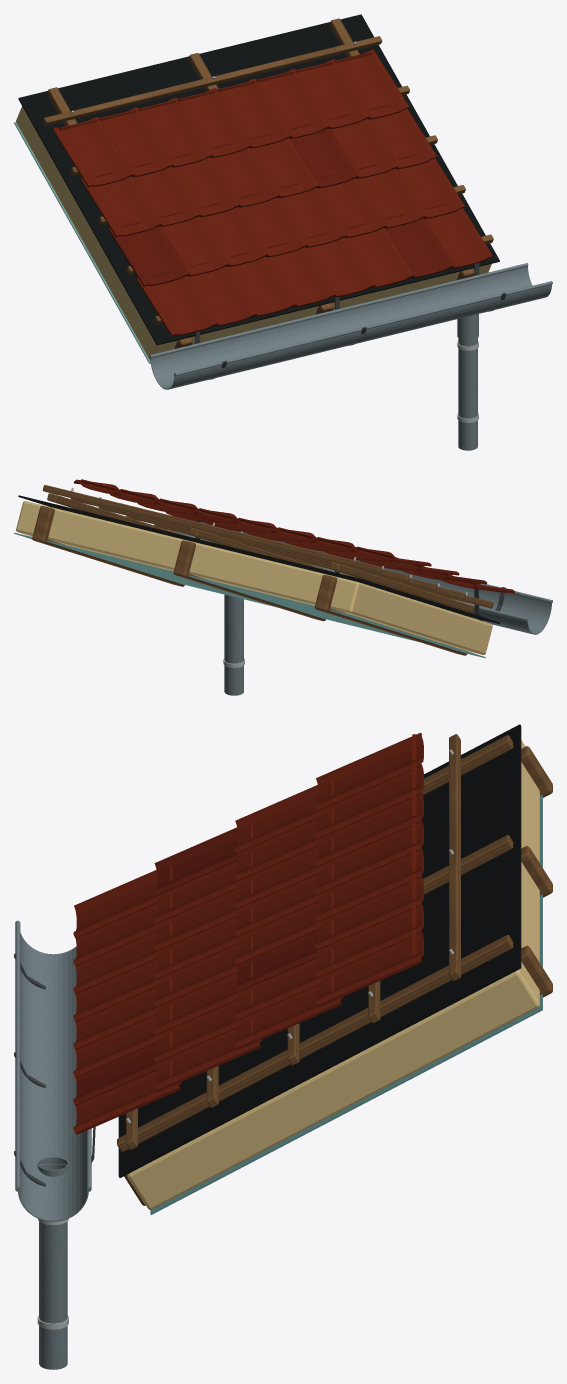
The model's file is modell.glb.
3 renders of one model, top to bottom at view 1: azimuth 30°, elevation 25°; view 2: azimuth 150°, elevation 25°; view 3: azimuth 270°, elevation 25°, orthographic. The views are drawn at different scales.
Parts seen in each view (by area): view 1: g06-deckziegel_deckung, g06-zusatzebene_zusatzebene, g06-rinne_, g06-deckziegel_deckung.001, g06-daemmung_daemmung, g06-lattung_lattung, g06-fallrohr_, g06-luftdichtheit_luftdichtheit; view 2: g06-daemmung_daemmung, g06-lattung_lattung, g06-deckziegel_deckung, g06-sparren_tragwerk, g06-rinne_, g06-luftdichtheit_luftdichtheit, g06-zusatzebene_zusatzebene, g06-fallrohr_, g06-deckziegel_deckung.001; view 3: g06-deckziegel_deckung, g06-zusatzebene_zusatzebene, g06-daemmung_daemmung, g06-rinne_, g06-lattung_lattung, g06-deckziegel_deckung.001, g06-fallrohr_, g06-luftdichtheit_luftdichtheit, g06-sparren_tragwerk.
Boxes of the visible parts, x1,y1,x2,y2 form: g06-deckziegel_deckung: [52, 49, 493, 336]; g06-zusatzebene_zusatzebene: [18, 14, 499, 345]; g06-rinne_: [149, 263, 552, 389]; g06-deckziegel_deckung.001: [108, 128, 454, 286]; g06-daemmung_daemmung: [16, 106, 491, 359]; g06-lattung_lattung: [42, 18, 493, 324]; g06-fallrohr_: [458, 338, 477, 450]; g06-luftdichtheit_luftdichtheit: [14, 122, 150, 363]; g06-daemmung_daemmung: [16, 501, 492, 654]; g06-lattung_lattung: [42, 485, 493, 613]; g06-deckziegel_deckung: [74, 479, 514, 593]; g06-sparren_tragwerk: [32, 506, 466, 655]; g06-rinne_: [170, 521, 552, 634]; g06-luftdichtheit_luftdichtheit: [14, 532, 485, 658]; g06-zusatzebene_zusatzebene: [18, 495, 499, 623]; g06-fallrohr_: [224, 594, 243, 695]; g06-deckziegel_deckung.001: [188, 513, 487, 584]; g06-deckziegel_deckung: [73, 732, 423, 1134]; g06-zusatzebene_zusatzebene: [118, 724, 521, 1177]; g06-daemmung_daemmung: [127, 740, 539, 1209]; g06-rinne_: [15, 920, 91, 1221]; g06-lattung_lattung: [117, 734, 513, 1152]; g06-deckziegel_deckung.001: [73, 827, 318, 1105]; g06-fallrohr_: [39, 1221, 67, 1369]; g06-luftdichtheit_luftdichtheit: [150, 795, 542, 1214]; g06-sparren_tragwerk: [124, 746, 552, 1205].
Size of the model in its own units: 2.3 by 1.78 by 1.97.
Materials: 9 (4 with a texture image).
